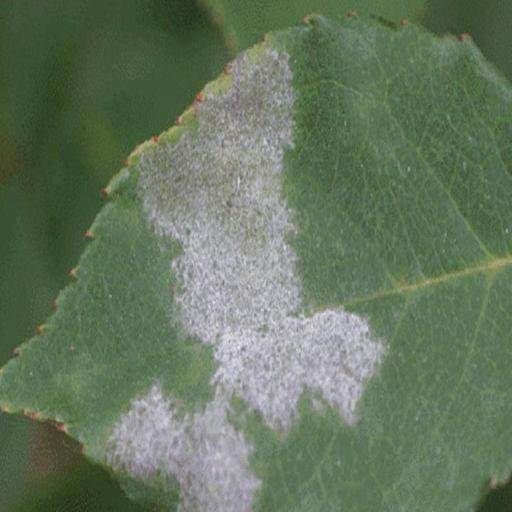powdery_mildew: (0, 13, 512, 512)
